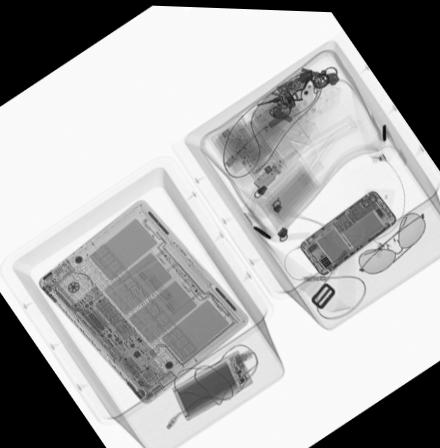Powerbank: (169, 348, 252, 420)
